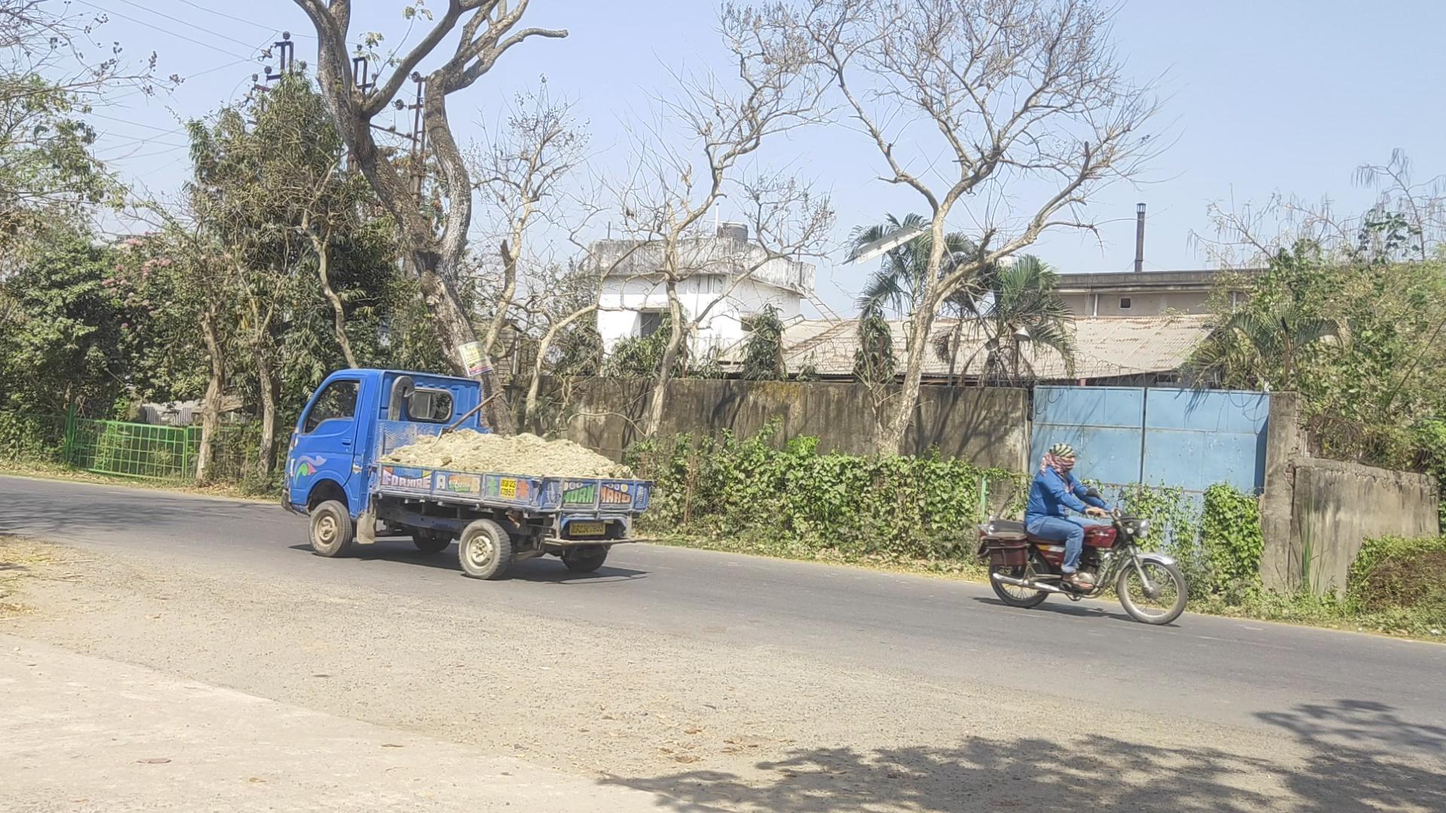bike: (977, 443, 1188, 625)
van: (281, 368, 653, 580)
